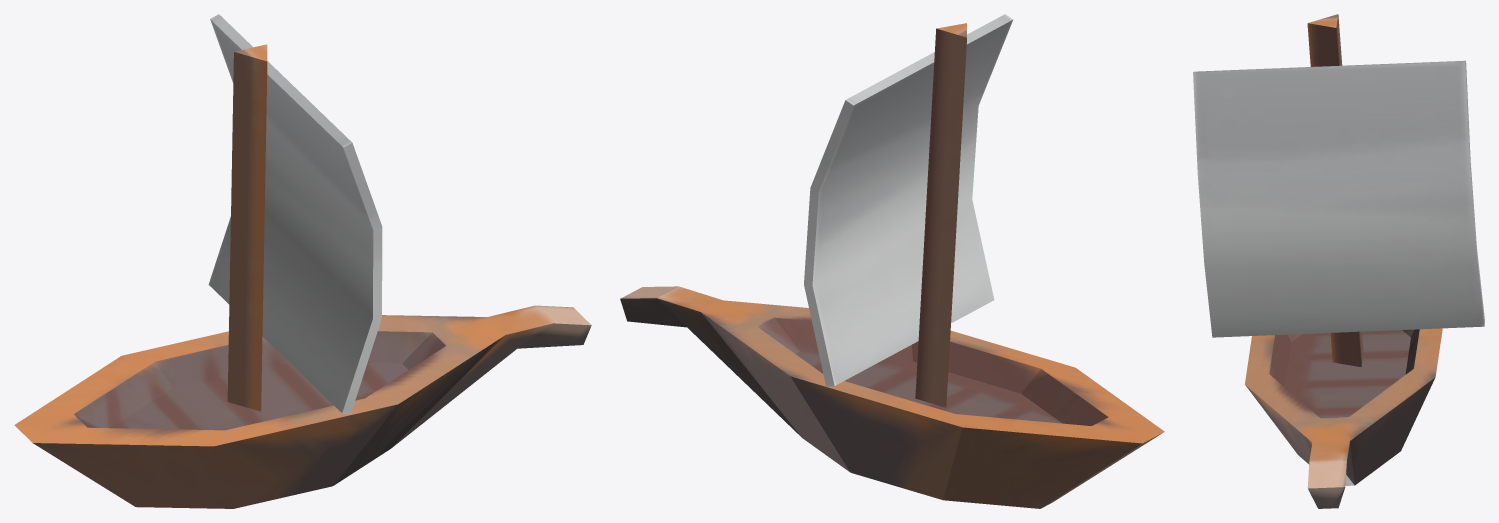
File: Boat.obj
3 views of the same model, side by side, from view 1: azimuth 30°, elevation 25°; view 2: azimuth 150°, elevation 25°; view 3: azimuth 270°, elevation 25° (orthographic). The views are drawn at different scales.
Parts seen in each view (by area): view 1: Boat; view 2: Boat; view 3: Boat.
Boxes of the visible parts, box(x1,y1,x2,y2) form: Boat: box(14, 14, 591, 508); Boat: box(620, 14, 1164, 508); Boat: box(1193, 14, 1484, 508).
Size of the model in its own units: 3.67 by 2.84 by 1.84.
1 material, 1 textured.
